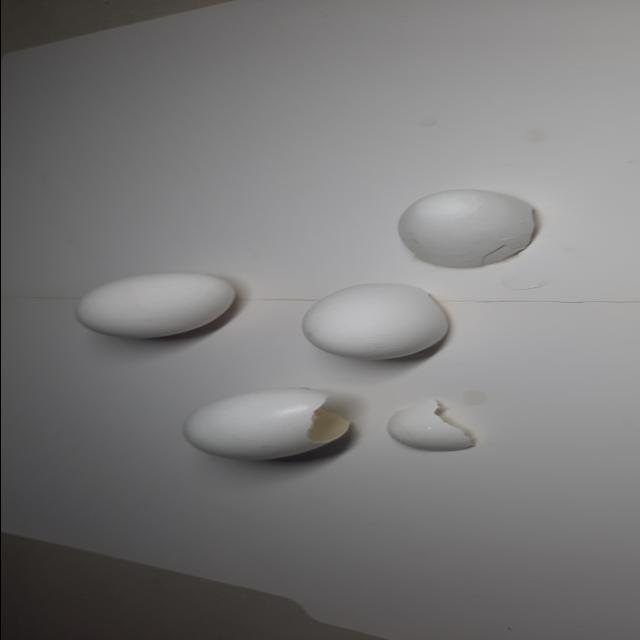egg shell: (173, 384, 355, 464), (388, 185, 546, 273), (292, 280, 453, 364), (67, 269, 248, 343), (378, 396, 481, 454)
